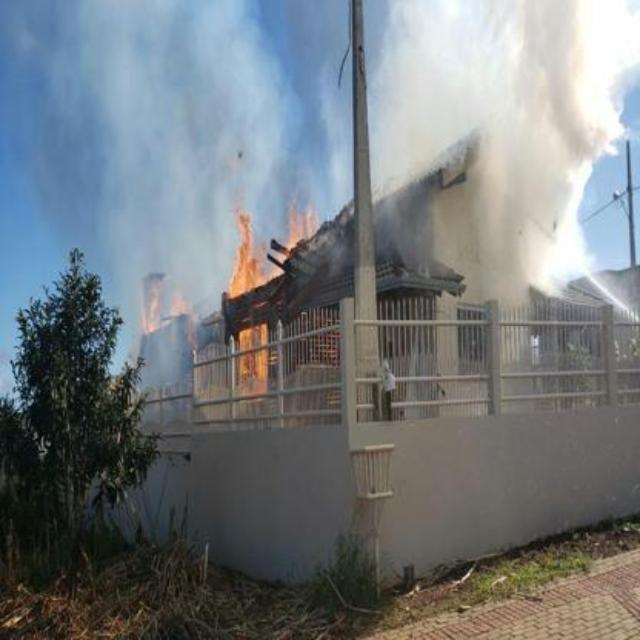Fire: (222, 205, 270, 401), (143, 270, 197, 352), (291, 204, 321, 262)
Smoke: (398, 11, 602, 270), (83, 22, 225, 274)
